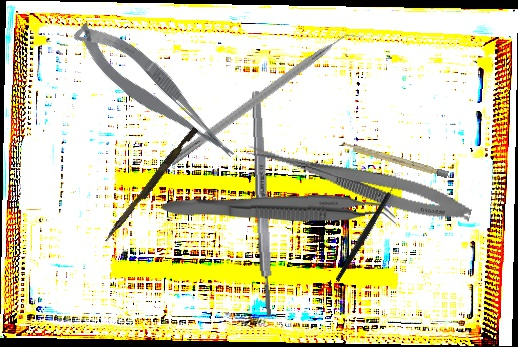Chopper: (167, 23, 367, 177), (306, 172, 427, 282)
Micro Scissor: (68, 6, 242, 181), (241, 136, 476, 229)
Pusher: (103, 124, 199, 246)
Scalpel Handle: (250, 90, 275, 318), (339, 140, 449, 179)
Tissue Forceps: (160, 193, 399, 229)
